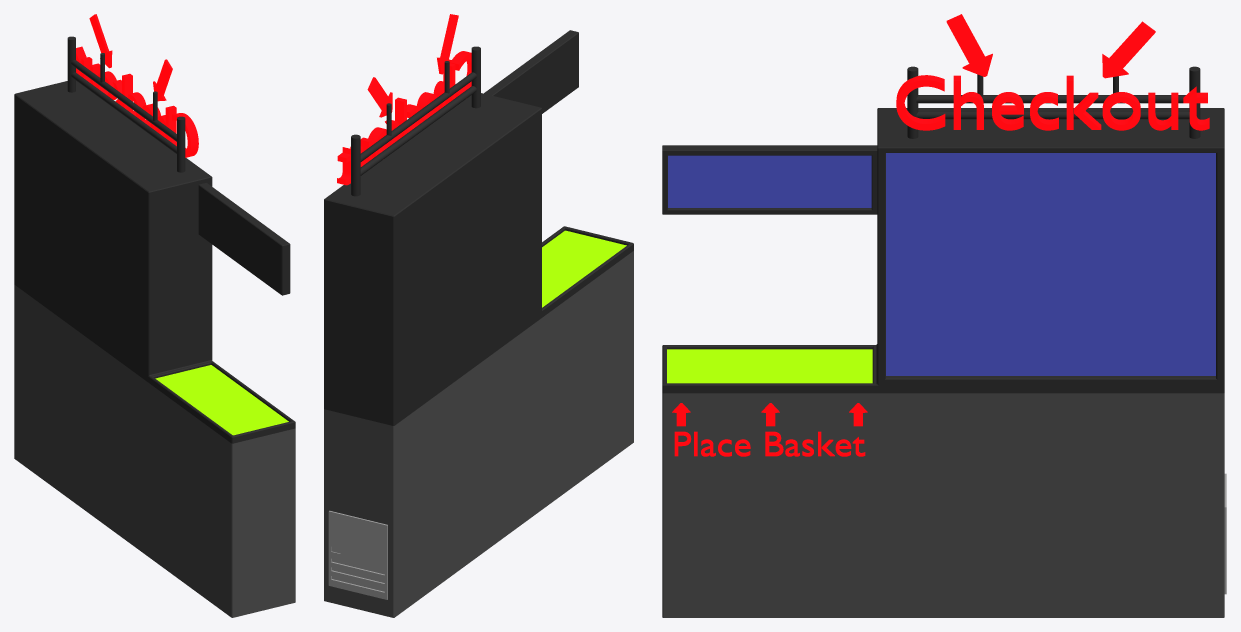
Rendered from checkout.glb.
3 renders of one model, left to right at view 1: azimuth 30°, elevation 25°; view 2: azimuth 150°, elevation 25°; view 3: azimuth 270°, elevation 25°, orthographic. The views are drawn at different scales.
Parts seen in each view (by area): view 1: Checkout, Checkout_Small_Display, Checkout_Basket_Surface, Checkout_Sign, Checkout_Sign_Text; view 2: Checkout, Checkout_Sign, Checkout_Vent, Checkout_Small_Display, Checkout_Basket_Surface, Checkout_Sign_Text; view 3: Checkout, Checkout_Display_Glass, Checkout_Small_Display_Glass, Checkout_Sign_Text, Checkout_Basket_Surface, Checkout_Sign, Checkout_Small_Display, Checkout_Basket_Text.
Part boxes in pixels (<box>): Checkout: <box>14,81,295,617</box>; Checkout_Small_Display: <box>198,183,290,295</box>; Checkout_Basket_Surface: <box>155,365,288,435</box>; Checkout_Sign: <box>67,14,185,172</box>; Checkout_Sign_Text: <box>76,46,198,157</box>; Checkout: <box>324,93,633,617</box>; Checkout_Sign: <box>351,14,480,196</box>; Checkout_Vent: <box>328,510,387,599</box>; Checkout_Small_Display: <box>484,30,578,113</box>; Checkout_Basket_Surface: <box>542,230,626,307</box>; Checkout_Sign_Text: <box>337,51,471,185</box>; Checkout: <box>662,108,1224,617</box>; Checkout_Display_Glass: <box>886,153,1215,375</box>; Checkout_Small_Display_Glass: <box>668,155,871,207</box>; Checkout_Sign_Text: <box>896,75,1209,130</box>; Checkout_Basket_Surface: <box>667,349,872,383</box>; Checkout_Sign: <box>907,14,1200,138</box>; Checkout_Small_Display: <box>662,145,877,214</box>; Checkout_Basket_Text: <box>674,431,865,456</box>.
Size of the model in its own units: 0.7633 by 5.1 by 4.38.
